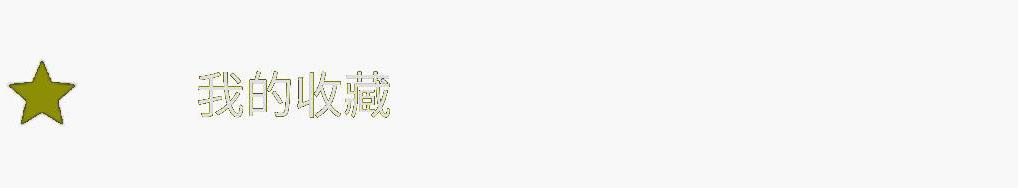CheckedTextView: (1, 1, 1017, 187)
